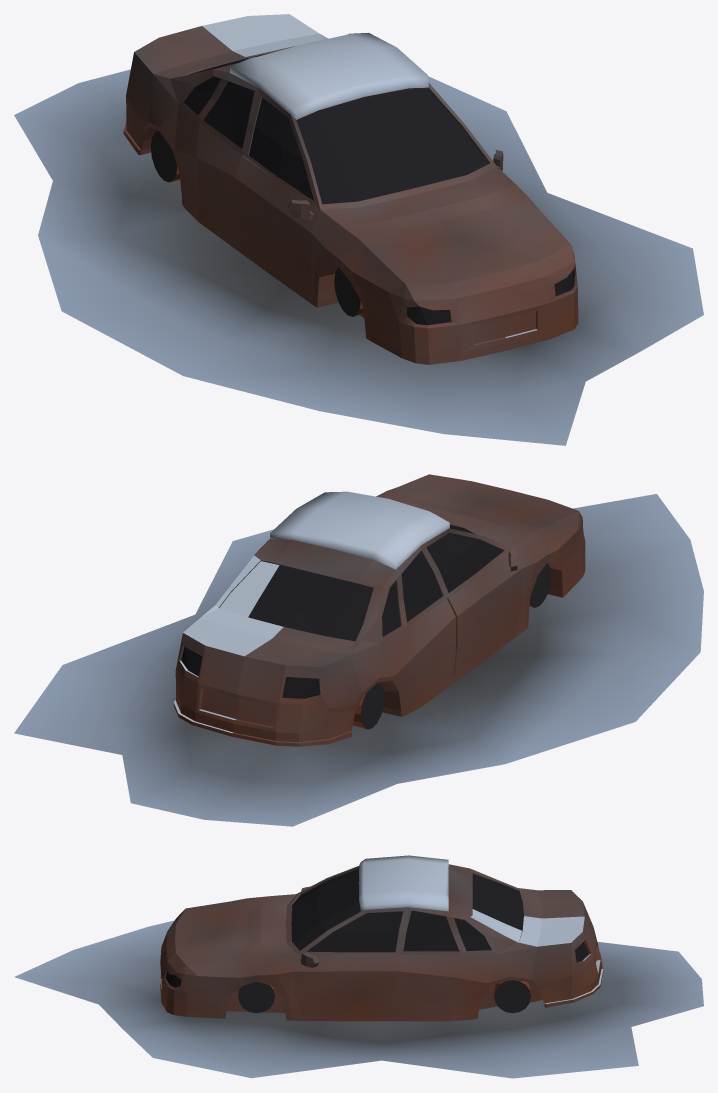
Rendered from sedan_burnt.glb.
3 views of the same model, one above another, from view 1: azimuth 30°, elevation 25°; view 2: azimuth 150°, elevation 25°; view 3: azimuth 270°, elevation 25° (orthographic). The views are drawn at different scales.
Visible parts, largest first — view 1: Body; view 2: Body; view 3: Body.
Boxes of the visible parts, bbox=[...] form: Body: bbox=[14, 14, 703, 445]; Body: bbox=[14, 474, 703, 826]; Body: bbox=[14, 855, 703, 1078].
Bounding box in the file's own units: 4.55 × 1.36 × 7.24.
